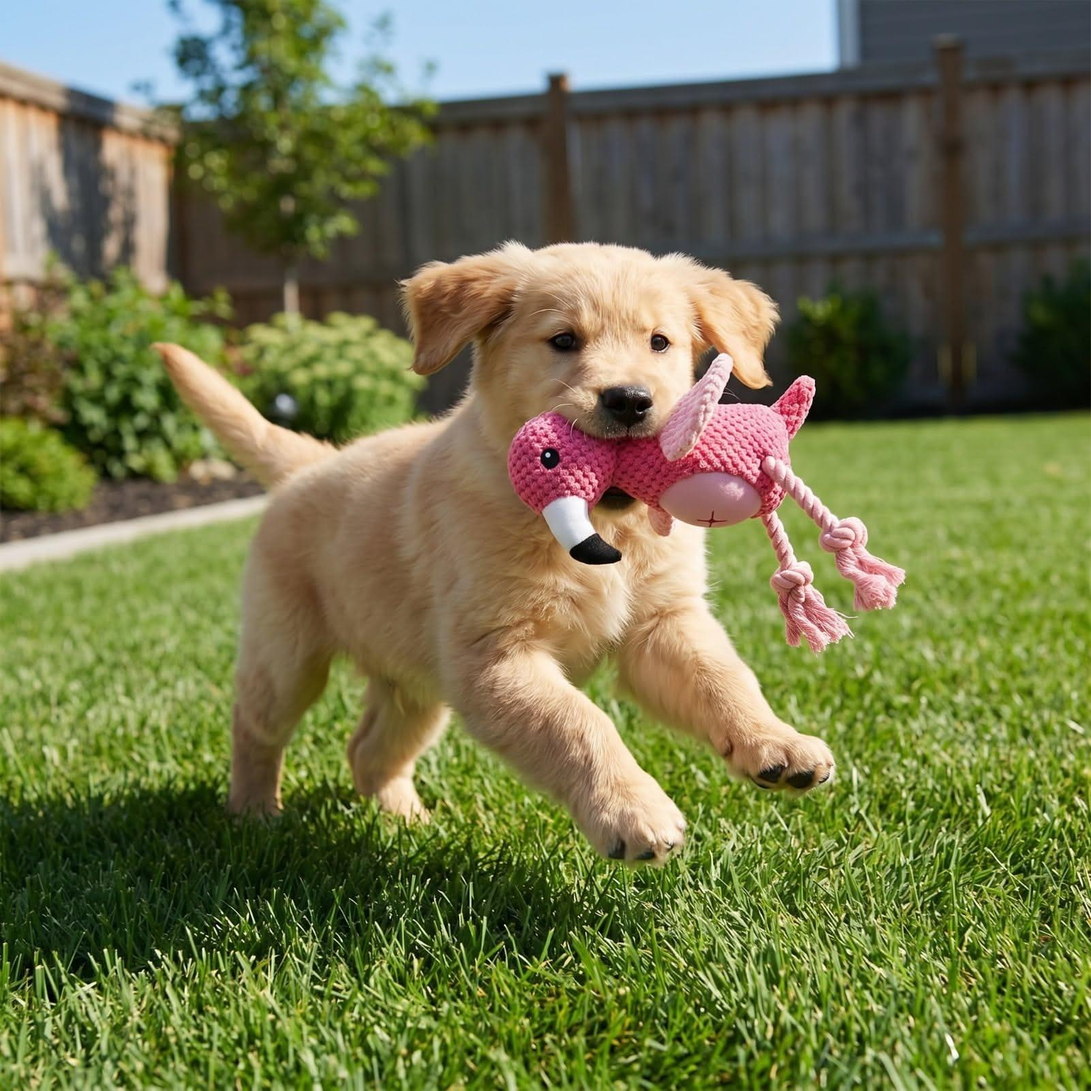non-dog: (507, 353, 906, 653)
puppy-dog: (153, 239, 836, 870)
